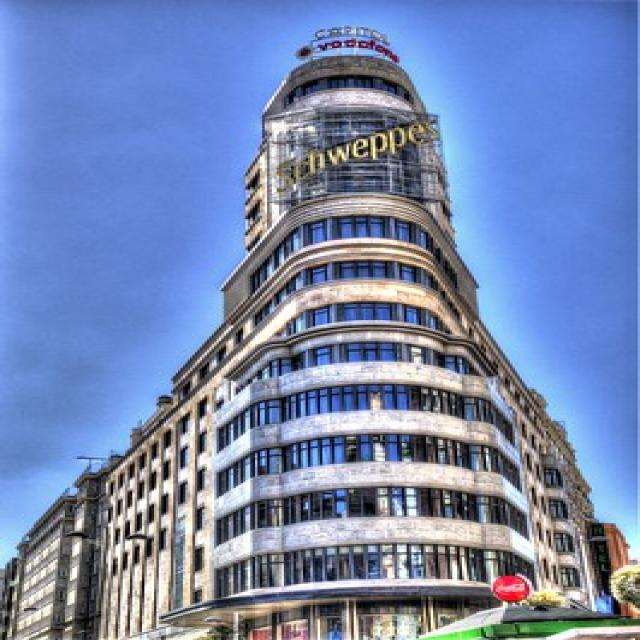Normal_building: (208, 22, 502, 640)
